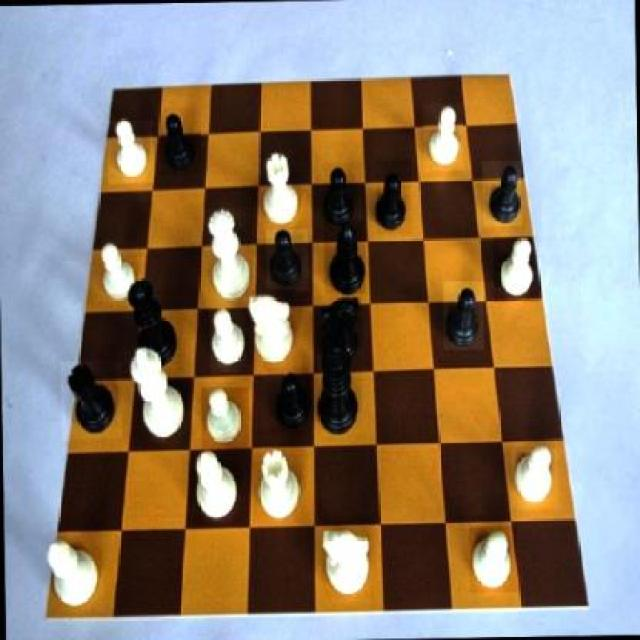bishop: (323, 220, 365, 294)
black-bishop: (317, 349, 366, 436)
black-king: (314, 294, 364, 374)
black-knight: (268, 366, 310, 436), (443, 280, 484, 350), (158, 108, 201, 174), (376, 158, 412, 234), (483, 160, 523, 227), (266, 230, 309, 292), (325, 163, 357, 231)
black-pawn: (124, 270, 184, 372)
black-queen: (60, 360, 122, 439)
black-rook: (42, 538, 104, 614), (190, 449, 238, 525)
white-bishop: (129, 343, 189, 449)
white-king: (323, 514, 376, 598), (246, 289, 297, 366)
white-knight: (469, 526, 517, 593), (494, 235, 540, 303), (200, 386, 249, 449), (108, 120, 154, 185), (92, 238, 138, 301), (512, 448, 560, 508), (210, 306, 252, 374), (423, 103, 464, 172)
white-pawn: (203, 208, 257, 307)
white-queen: (250, 446, 308, 526), (261, 151, 304, 227)
